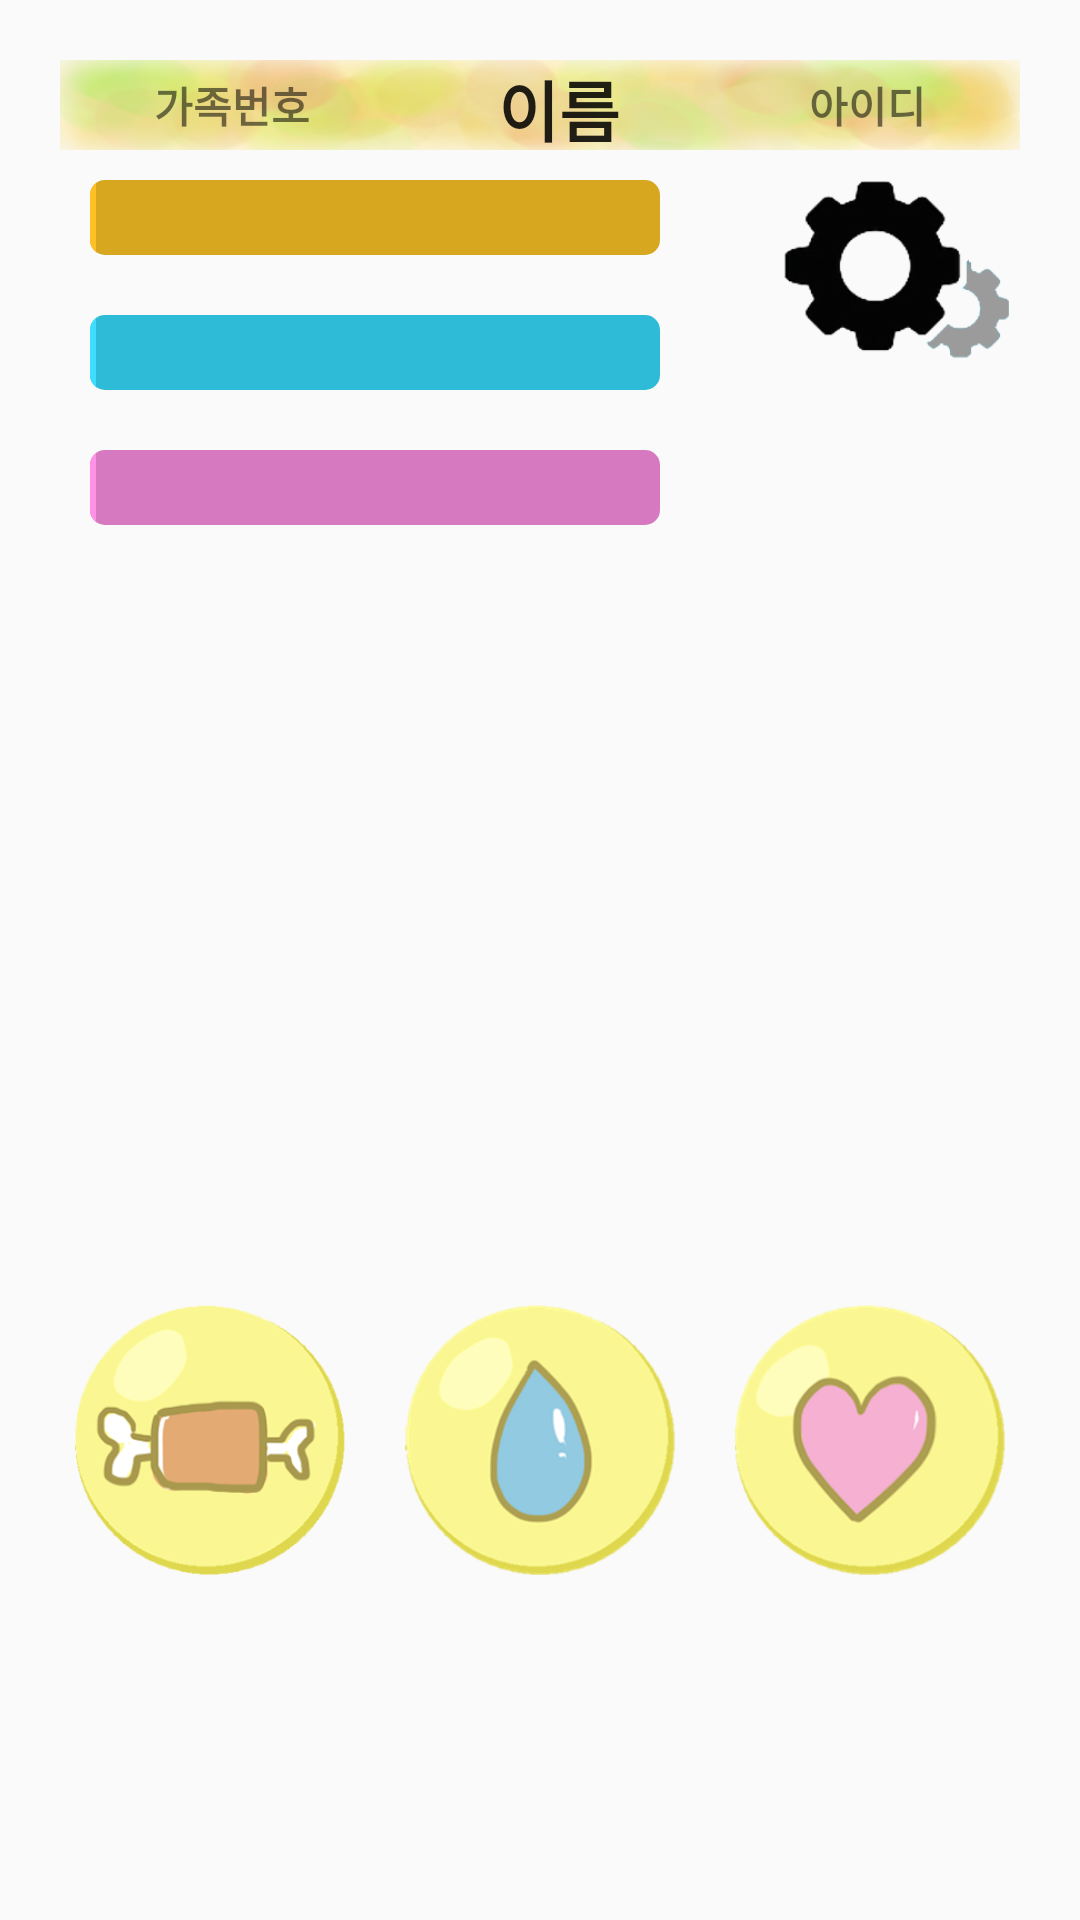

Point at icon controls on the screen. Image size 1080px×1920px, points as (x=x, y=y).
food: (x=210, y=1440)
love: (x=870, y=1440)
setting: (x=896, y=269)
water: (x=540, y=1440)
